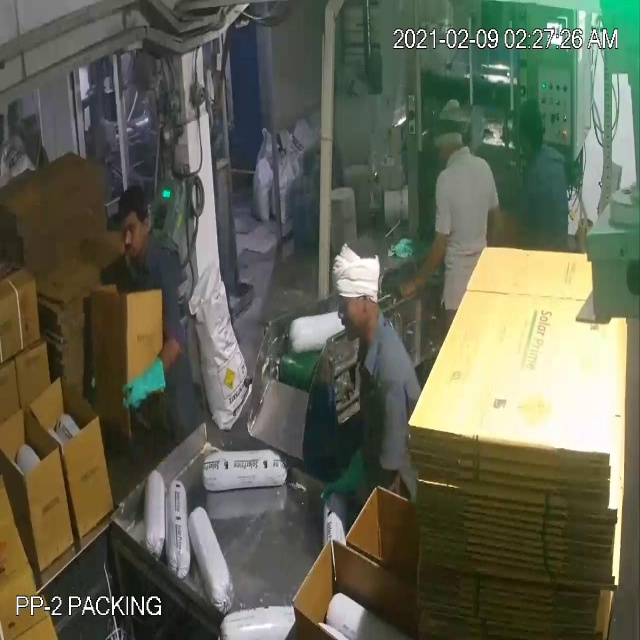Guantes: (314, 438, 375, 509), (112, 358, 175, 412)
Sin_guantes: (391, 226, 451, 304)
